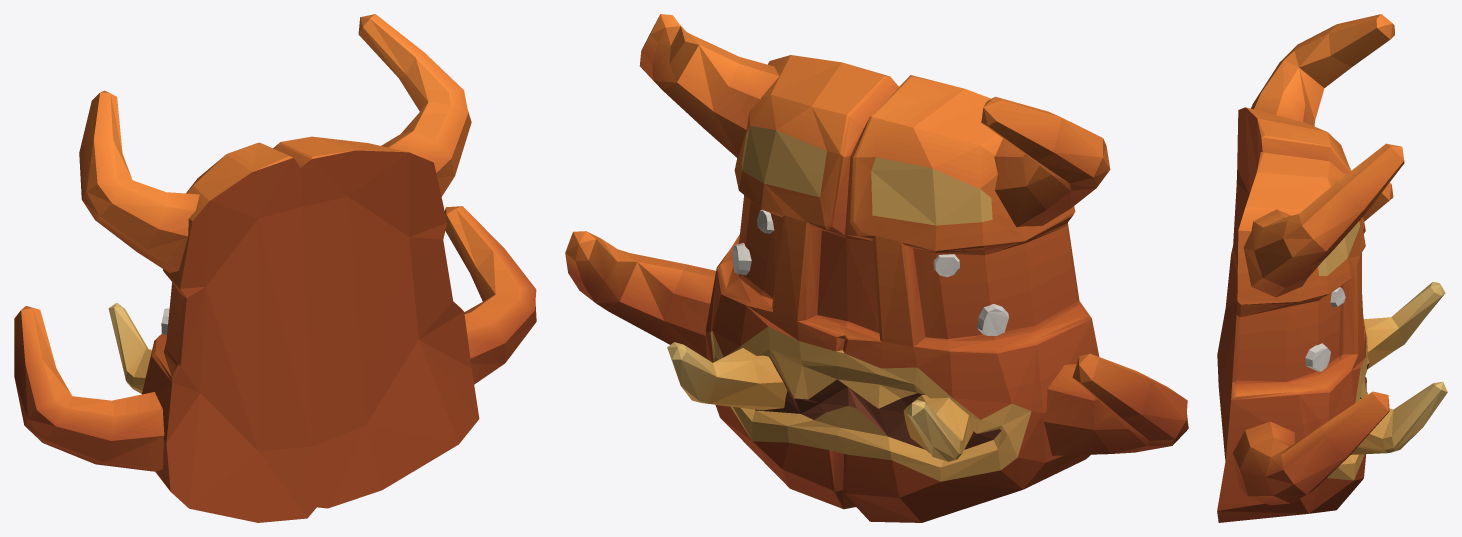
File: CharSkyKid_Mask_AP02Crab_01.glb
3 renders of one model, left to right at view 1: azimuth 30°, elevation 25°; view 2: azimuth 150°, elevation 25°; view 3: azimuth 270°, elevation 25°, orthographic. The views are drawn at different scales.
Parts seen in each view (by area): view 1: CharSkyKid_Mask_AP02Crab_01; view 2: CharSkyKid_Mask_AP02Crab_01; view 3: CharSkyKid_Mask_AP02Crab_01.
Boxes of the visible parts, x1=… form: CharSkyKid_Mask_AP02Crab_01: x1=14, y1=14, x2=536, y2=522; CharSkyKid_Mask_AP02Crab_01: x1=565, y1=14, x2=1188, y2=522; CharSkyKid_Mask_AP02Crab_01: x1=1217, y1=14, x2=1447, y2=522.
Size of the model in its own units: 4.12 by 3.2 by 1.59.
1 material, 1 textured.
